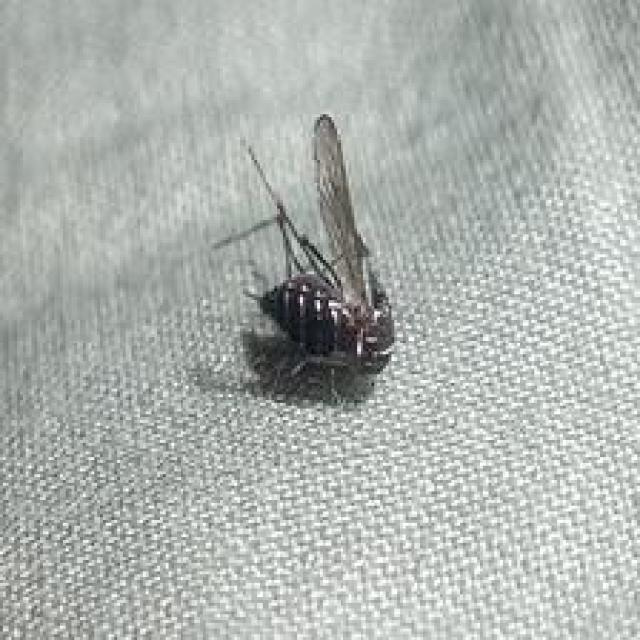Aedes albopictus: (210, 112, 399, 388)
